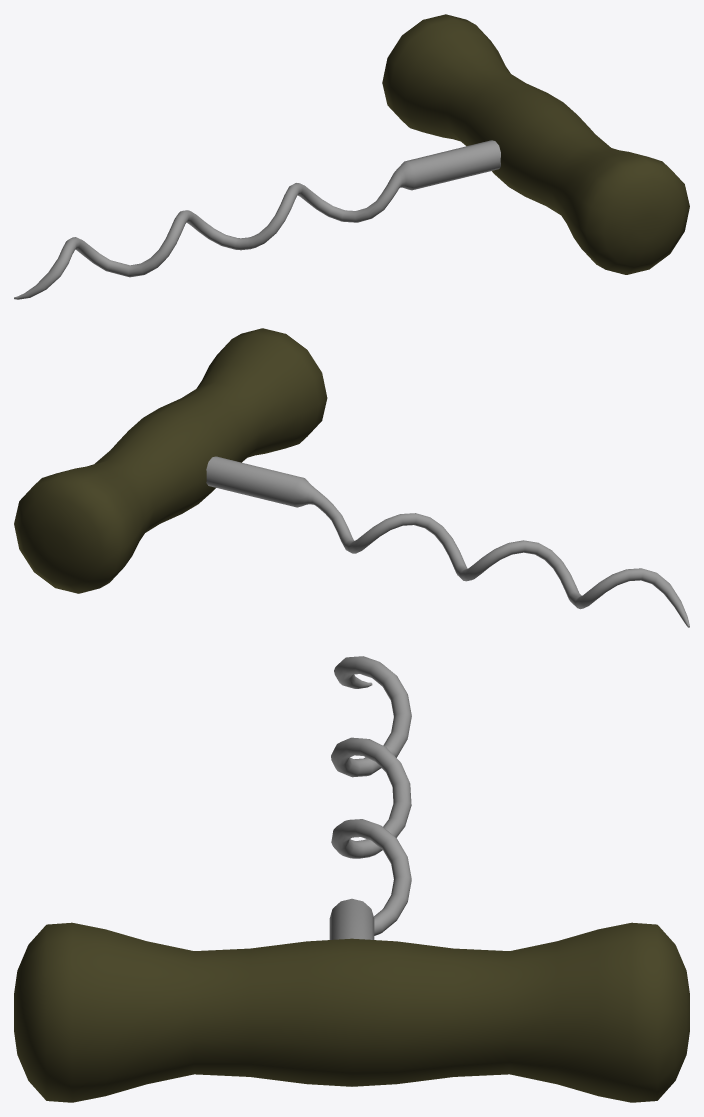
File: win_otkrivashka.FBX
The picture shows the model from 3 angles, top to bottom: view 1: azimuth 30°, elevation 25°; view 2: azimuth 150°, elevation 25°; view 3: azimuth 270°, elevation 25°; orthographic projection. The views are drawn at different scales.
Parts seen in each view (by area): view 1: win_otkrivashka; view 2: win_otkrivashka; view 3: win_otkrivashka.
Boxes of the visible parts, x1,y1,x2,y2 form: win_otkrivashka: (14,14,689,299); win_otkrivashka: (14,328,689,627); win_otkrivashka: (14,656,689,1102).
Size of the model in its own units: 139 by 25.27 by 95.1.
